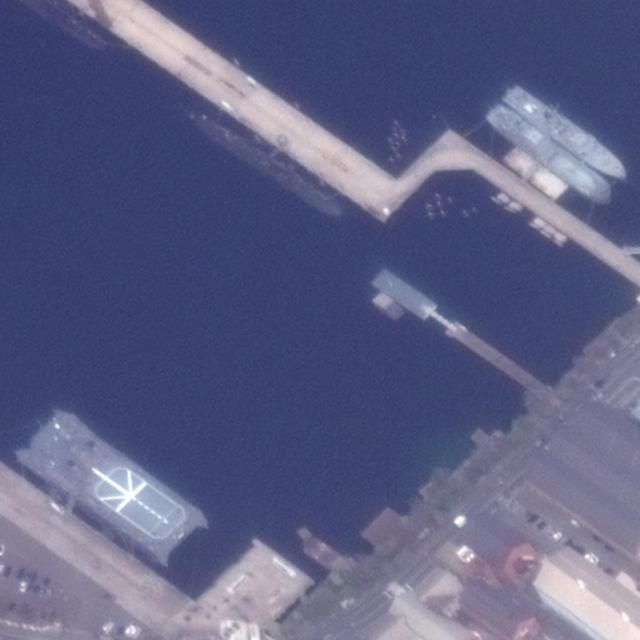Auxiliary Ships: (15, 401, 208, 570)
Other Warship: (498, 74, 635, 189), (479, 96, 617, 210)
Submarine: (193, 111, 345, 222)
